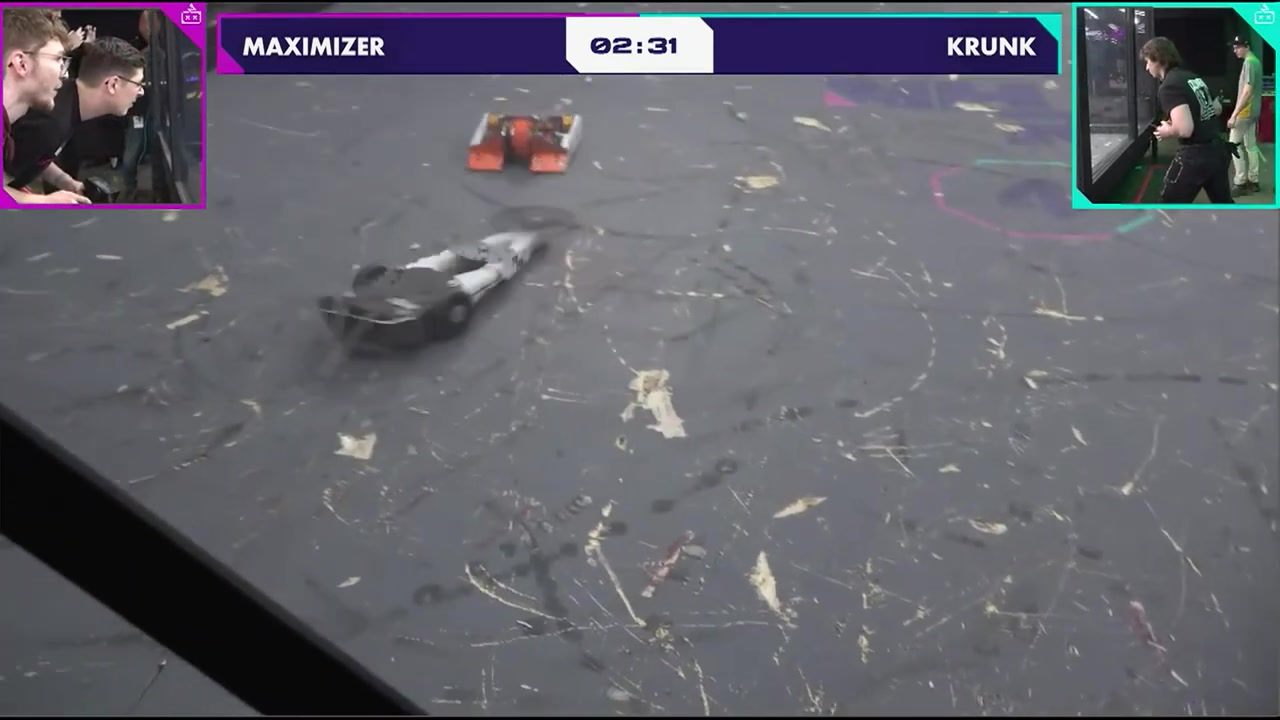combatbot: (319, 235, 546, 345), (464, 112, 585, 176)
